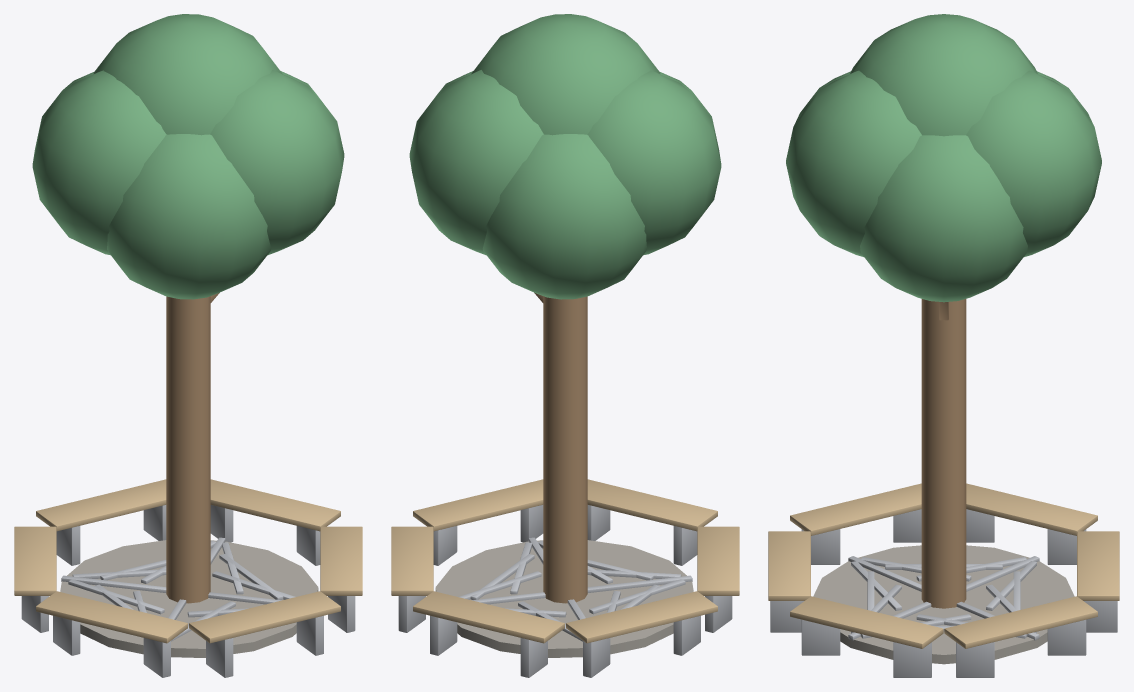
The model's file is th48_baumscheibe.glb.
3 views of the same model, side by side, from view 1: azimuth 30°, elevation 25°; view 2: azimuth 150°, elevation 25°; view 3: azimuth 270°, elevation 25° (orthographic).
Visible parts, largest first — view 1: Sphere.004, Sphere.003, Sphere.005, Cylinder.001, Sphere.006, Cylinder, Cube.028, Cube.031, Cube.019, Cube.022, Cube.025, Cube.034 (+12 smaller); view 2: Sphere.002, Sphere.003, Sphere.001, Cylinder.001, Sphere.006, Cylinder, Cube.022, Cube.025, Cube.031, Cube.034, Cube.019, Cube.028 (+12 smaller); view 3: Sphere, Sphere.001, Sphere.005, Cylinder.001, Sphere.006, Cylinder, Cube.019, Cube.034, Cube.025, Cube.028, Cube.022, Cube.031 (+12 smaller).
Part boxes in pixels (box(x1,y1,x2,y2)): Sphere.004: box(107, 134, 271, 299); Sphere.003: box(32, 70, 166, 255); Sphere.005: box(210, 70, 344, 254); Cylinder.001: box(166, 296, 210, 603); Sphere.006: box(93, 14, 282, 135); Cylinder: box(60, 540, 318, 657); Cube.028: box(36, 591, 187, 643); Cube.031: box(189, 591, 340, 643); Cube.019: box(210, 479, 340, 531); Cube.022: box(36, 479, 166, 531); Cube.025: box(14, 526, 56, 595); Cube.034: box(320, 526, 362, 595); Sphere.002: box(482, 134, 646, 299); Sphere.003: box(587, 70, 721, 255); Sphere.001: box(409, 70, 543, 254); Cylinder.001: box(543, 296, 587, 603); Sphere.006: box(471, 14, 660, 135); Cylinder: box(435, 540, 693, 657); Cube.022: box(413, 591, 564, 643); Cube.025: box(566, 591, 717, 643); Cube.031: box(587, 479, 717, 531); Cube.034: box(413, 479, 543, 531); Cube.019: box(391, 526, 433, 595); Cube.028: box(697, 526, 739, 595); Sphere: box(860, 135, 1027, 302); Sphere.001: box(966, 70, 1101, 256); Sphere.005: box(786, 70, 921, 256); Cylinder.001: box(921, 299, 966, 608); Sphere.006: box(850, 14, 1037, 136); Cylinder: box(813, 545, 1074, 664); Cube.019: box(944, 596, 1097, 648); Cube.034: box(790, 596, 943, 648); Cube.025: box(966, 483, 1097, 535); Cube.028: box(790, 483, 921, 535); Cube.022: box(1077, 531, 1119, 600); Cube.031: box(768, 531, 810, 600).
Size of the model in its own units: 3.74 by 6.35 by 3.46.
